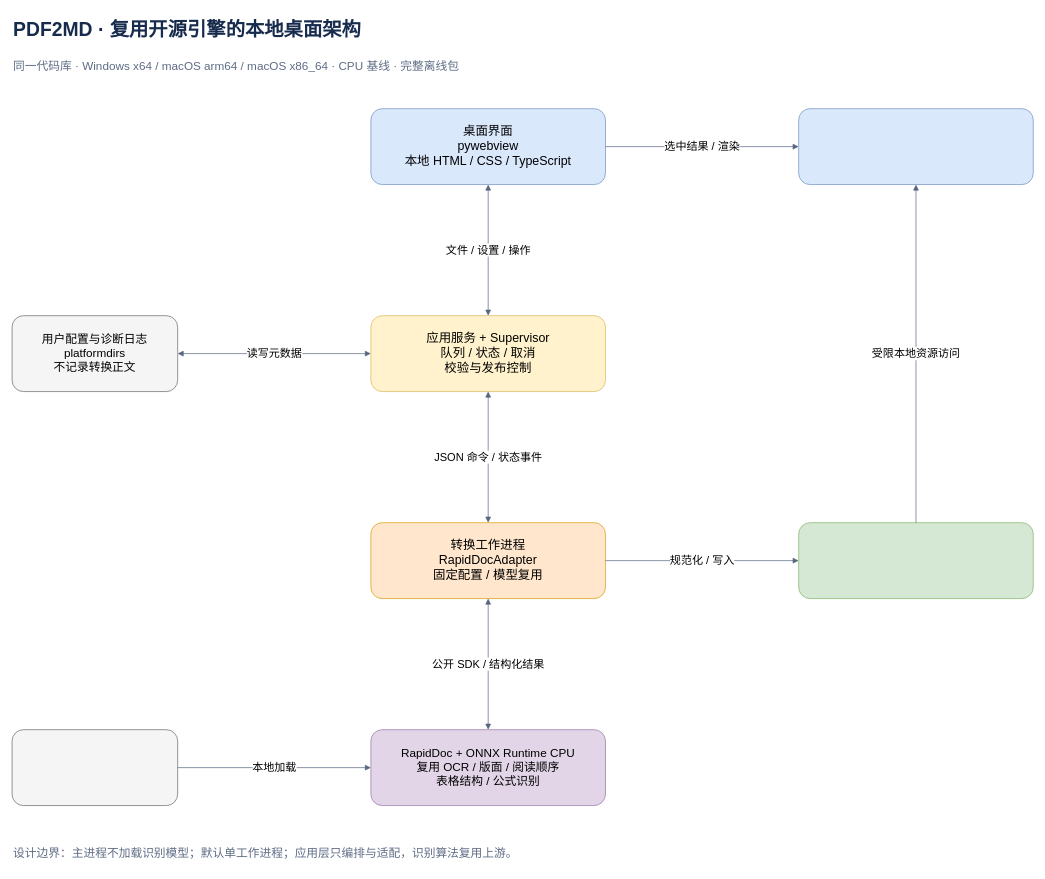
Image size: 1045x879. Some labels were removed from this diagram. The centre of each missing label's shape, as x and y in pixels:
包内只读模型 OCR / 版面 / 表格 / 公式 版本与哈希清单: pixel 94 767
标准结果目录 Markdown + images + JSON 临时写入，校验后发布: pixel 915 560
离线结果预览 markdown-it + KaTeX DOMPurify: pixel 915 146
